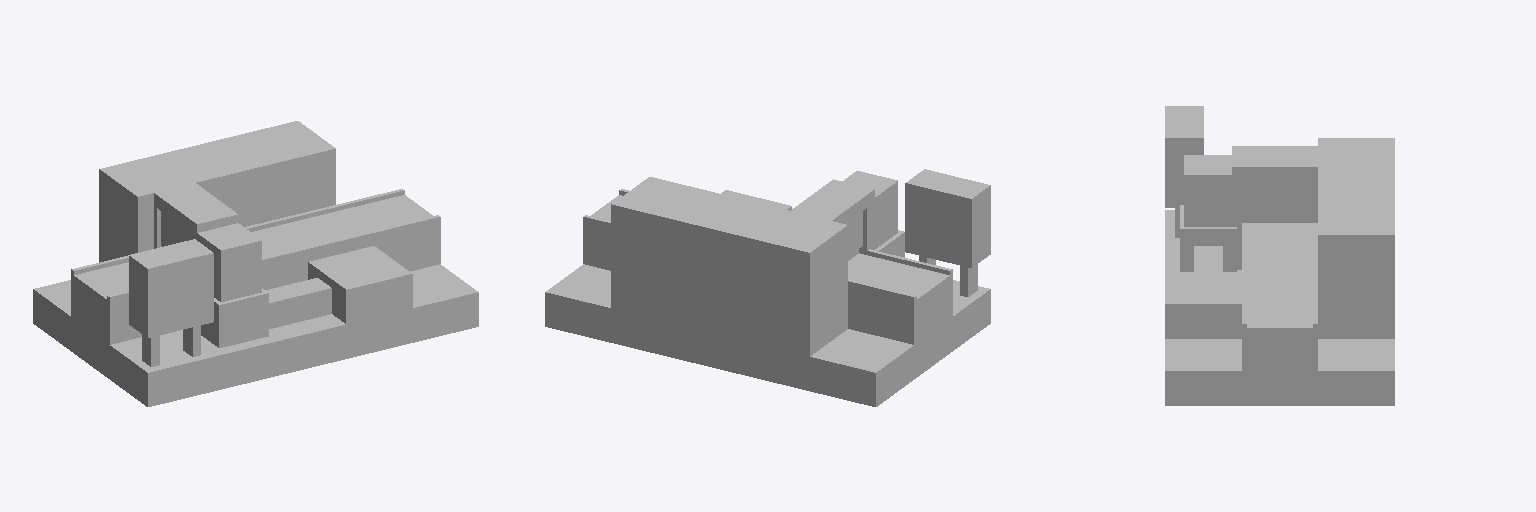
Rendered from sawmill.obj.
The picture shows the model from 3 angles: view 1: azimuth 30°, elevation 25°; view 2: azimuth 150°, elevation 25°; view 3: azimuth 270°, elevation 25°; orthographic projection.
Visible parts, largest first — view 1: base, conveyors; view 2: base, conveyors; view 3: base, conveyors.
Part boxes in pixels (x1,y1,x2,y2): base: (33, 121, 478, 406); conveyors: (74, 195, 432, 307); base: (545, 169, 990, 406); conveyors: (591, 195, 949, 307); base: (1165, 106, 1394, 405); conveyors: (1247, 223, 1312, 336).
Bounding box in the file's own units: 5 × 2 × 3.